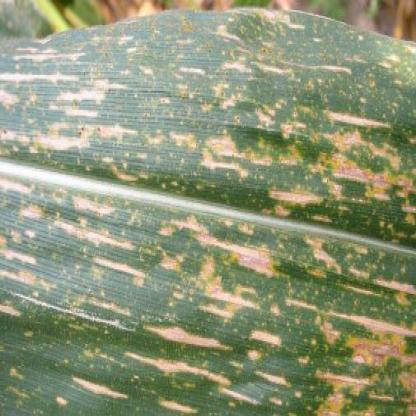Corn leaf blight: (3, 19, 415, 410)
